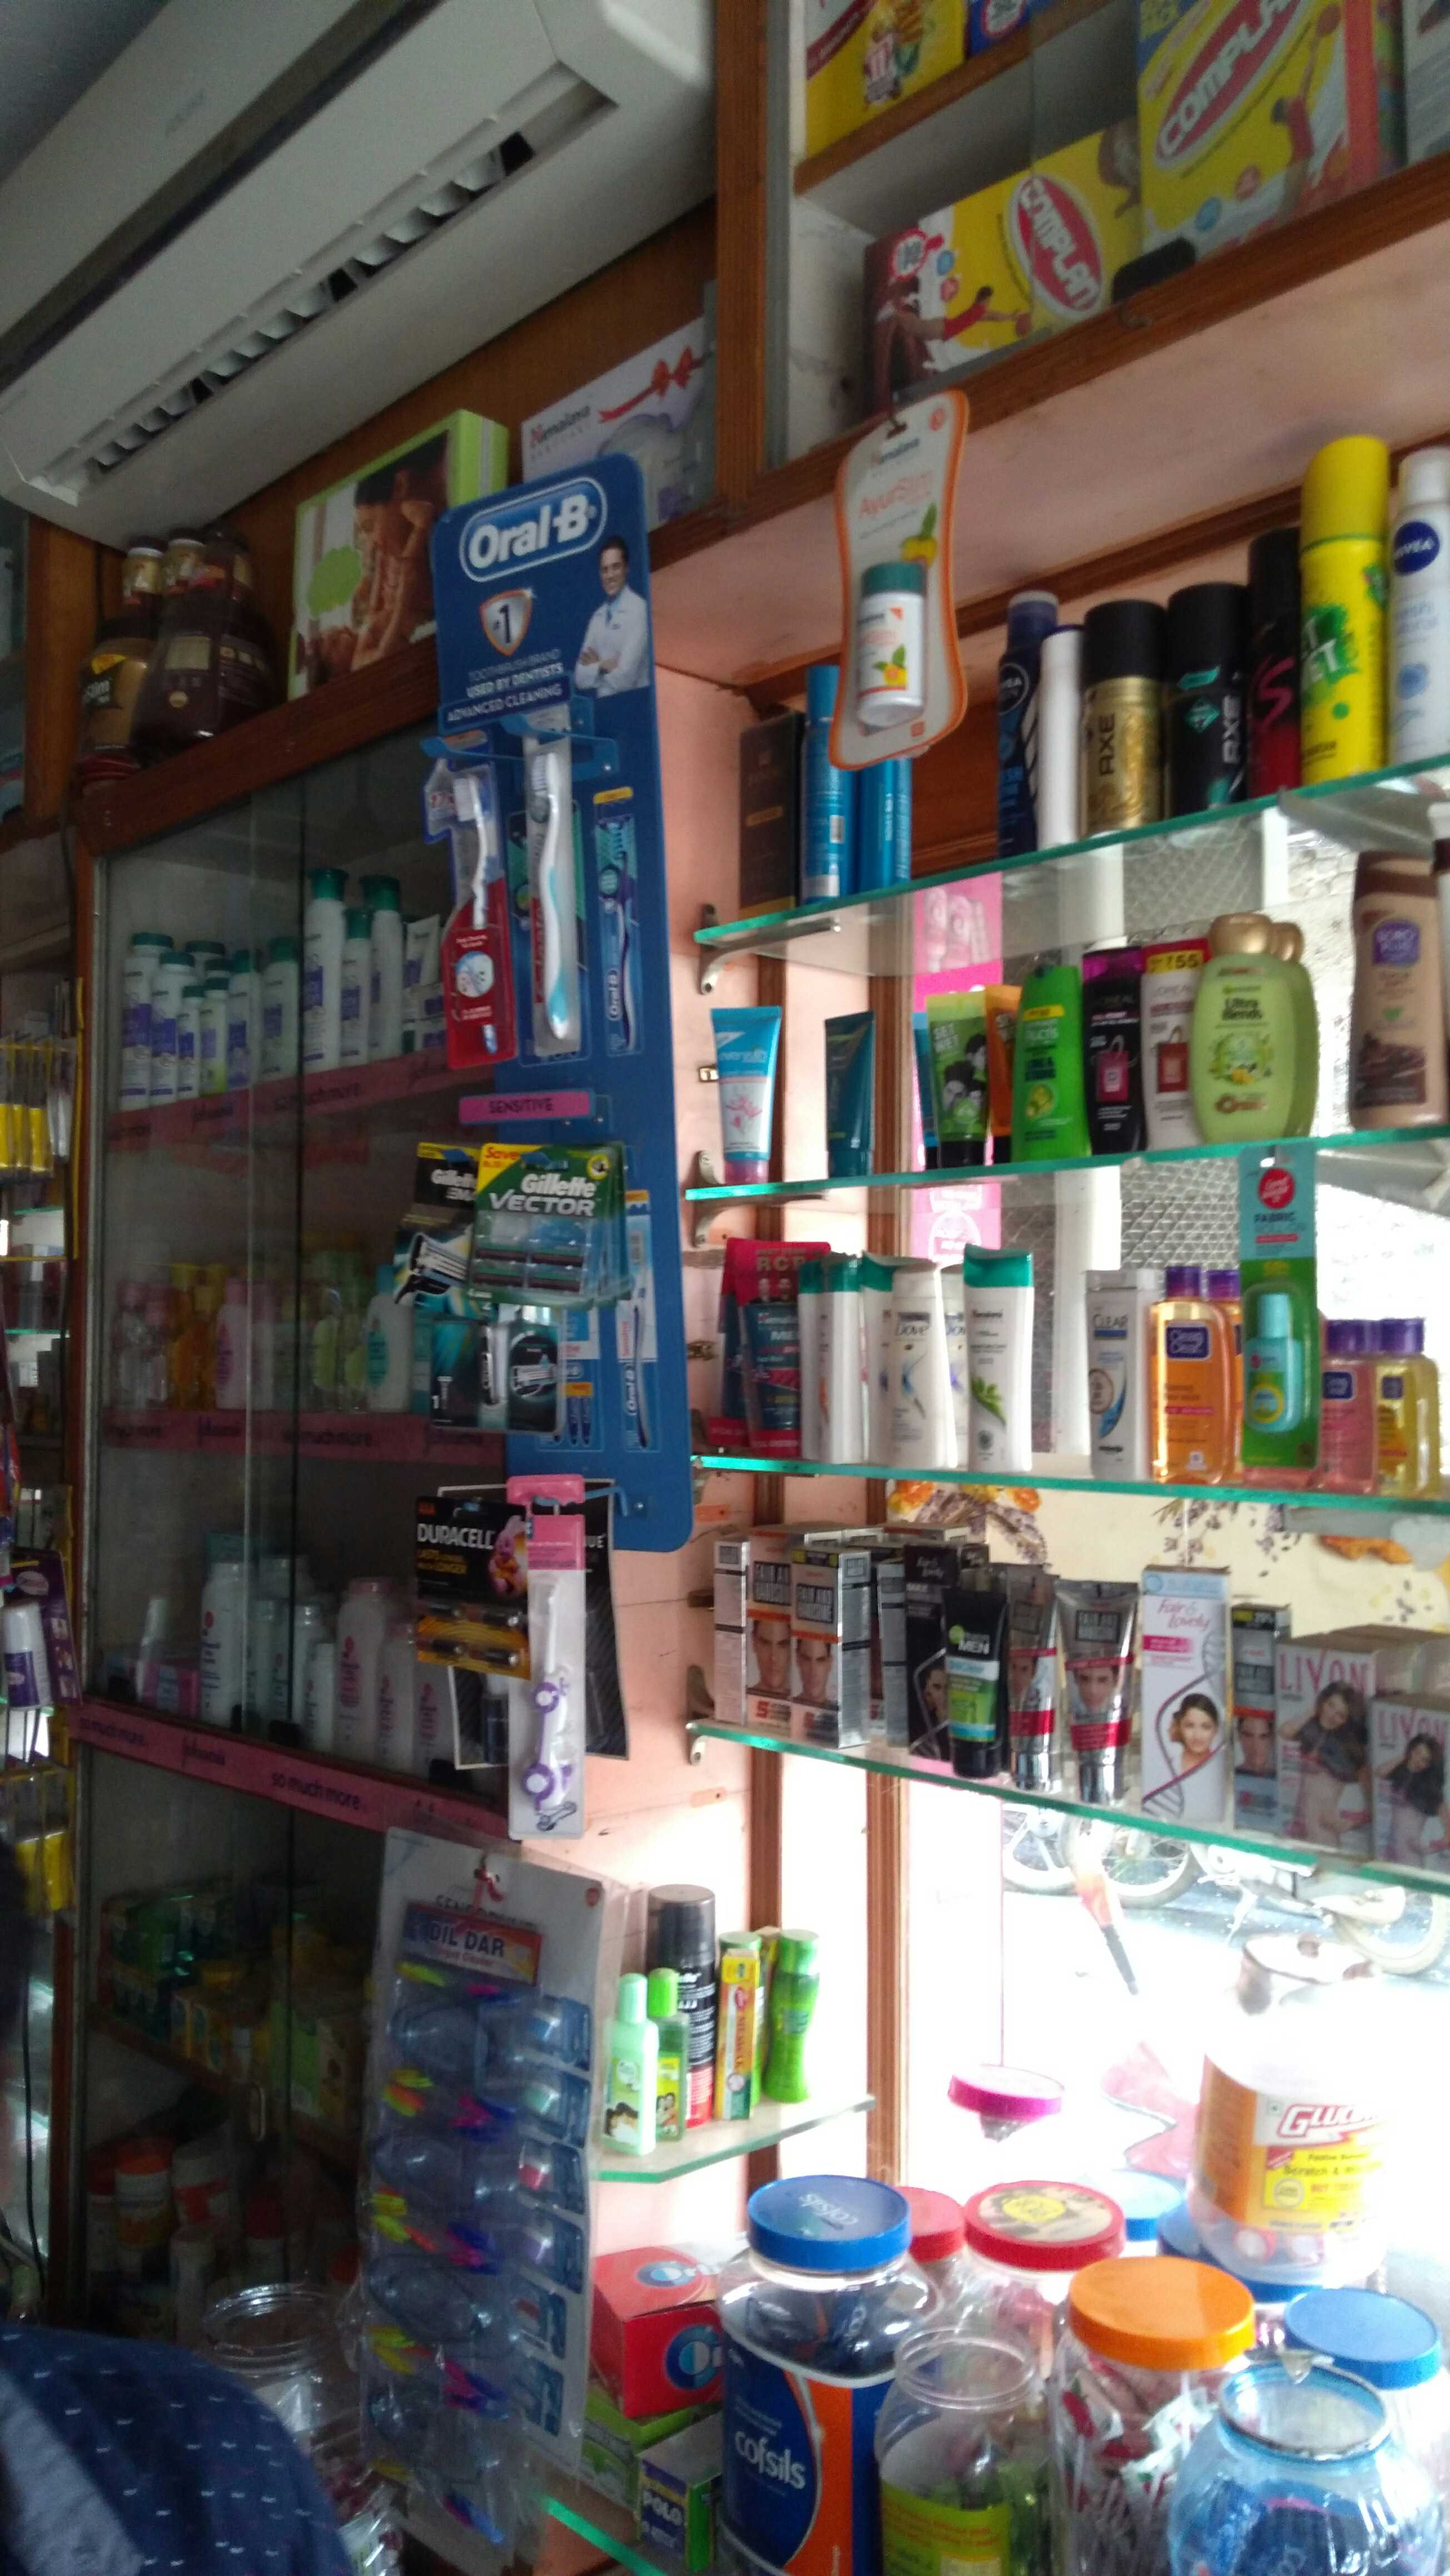beauty: (458, 1141, 612, 1300)
pharmacy: (442, 720, 525, 1077), (520, 708, 587, 1062)
